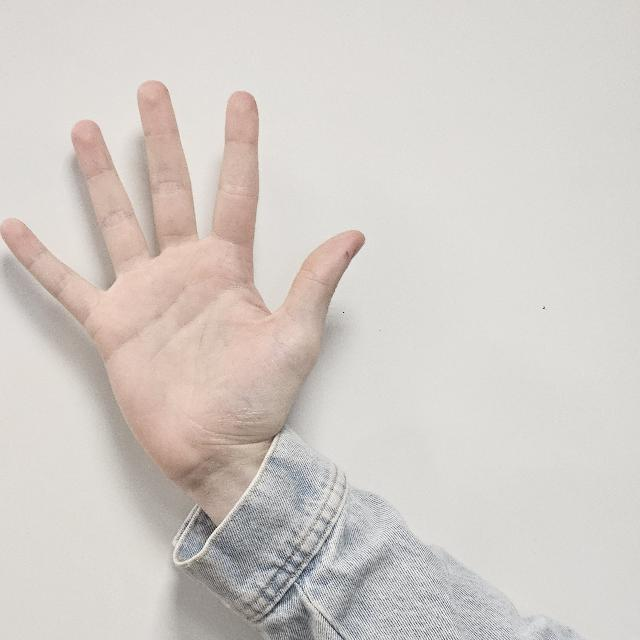X: (5, 81, 383, 491)
